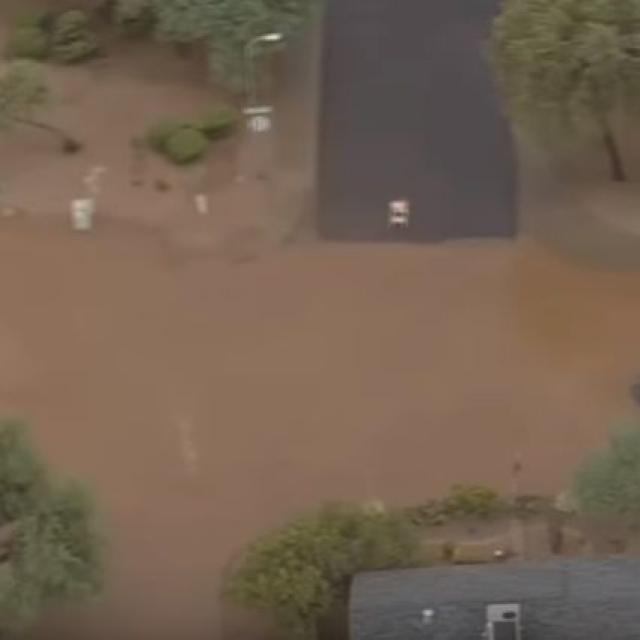flooded_areas: (0, 226, 638, 554)
